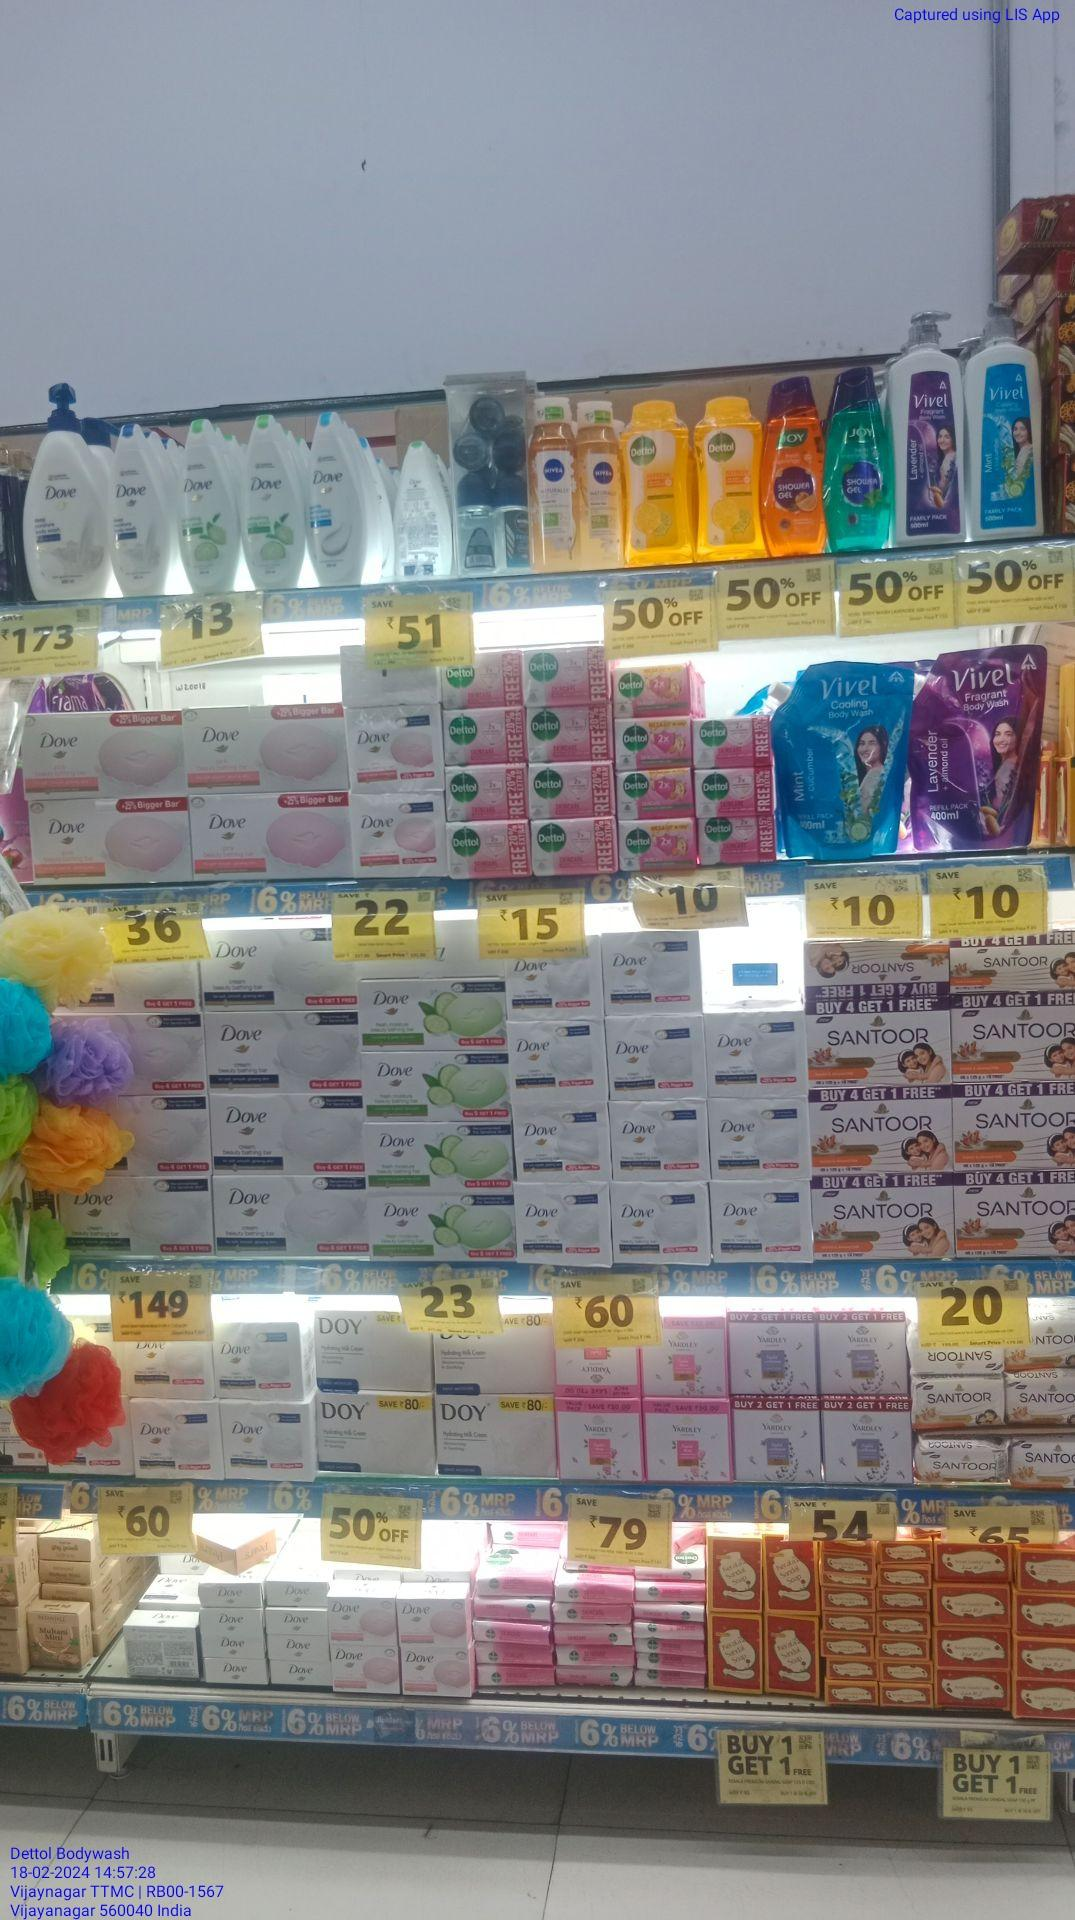Dettol_Bodywash_Refresh: (621, 400, 695, 566), (695, 398, 765, 560)
Dove_Deep_Moisture_Body_Wash_250ML: (107, 423, 173, 596)
Dove_Gentle_Exfoliating_Body_Wash_250ML: (307, 407, 367, 585)
Dove_Refreshing_Body_Wash_250ML: (245, 414, 305, 591), (181, 419, 241, 592)
Joy_Shower_Gel_Mandarin_and_Lemongrass_250ML: (768, 377, 824, 554)
Joy_Shower_Gel_Mint_and_Eucalyptus_250ML: (827, 367, 893, 551)
